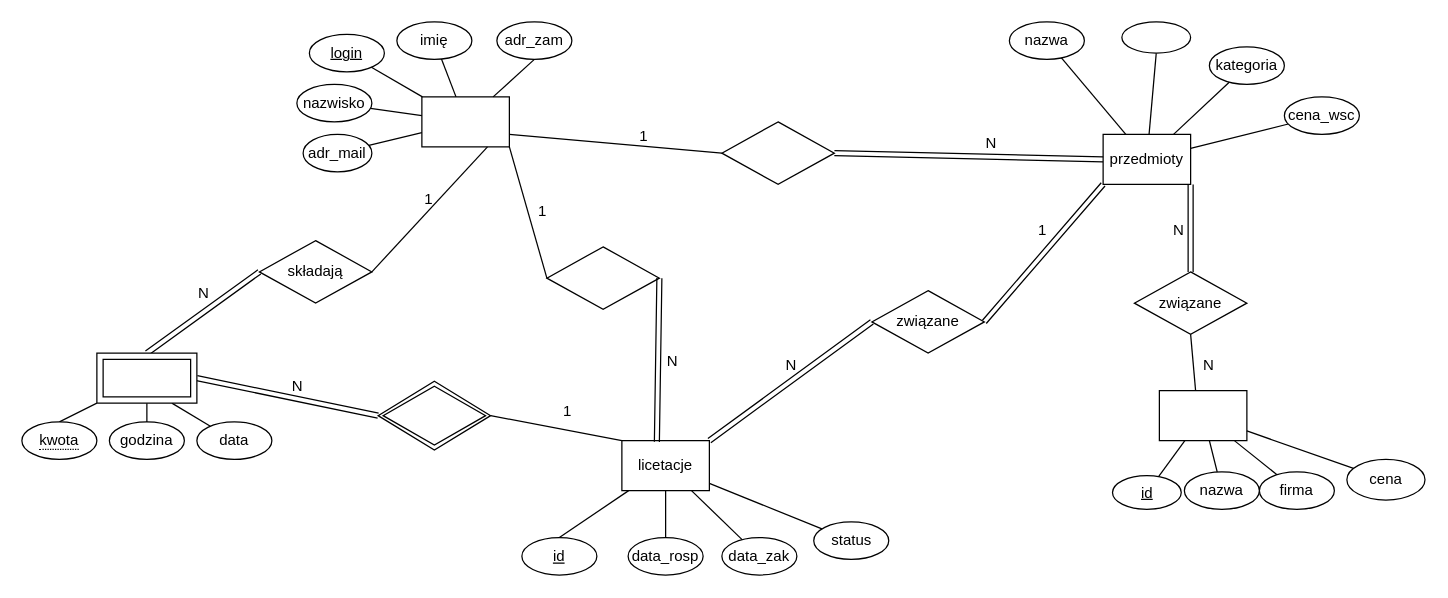
The diagram is 1448 pixels wide and 598 high, and some of its shapes have lost their labels. The centre of each missing label's shape, as x and y in pixels:
"dotyczy" goes at (x=434, y=415).
"numer" goes at (x=1156, y=37).
"oferty" goes at (x=146, y=377).
"opcje_dost" goes at (x=1202, y=415).
"użytkownicy" goes at (x=465, y=121).
"wystawiają" goes at (x=777, y=152).
"zwyciężca" goes at (x=602, y=277).
